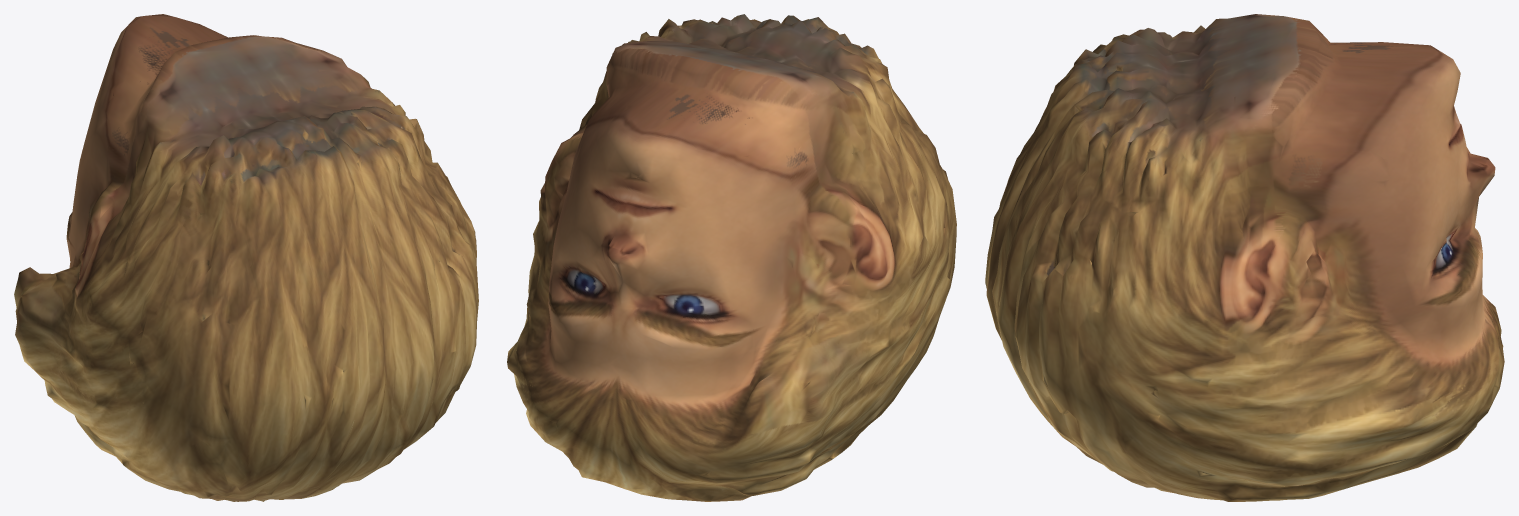
Rendered from field-fitted-head.glb.
3 views of the same model, side by side, from view 1: azimuth 30°, elevation 25°; view 2: azimuth 150°, elevation 25°; view 3: azimuth 270°, elevation 25° (orthographic). The views are drawn at different scales.
Parts seen in each view (by area): view 1: world; view 2: world; view 3: world.
Boxes of the visible parts, x1=… form: world: x1=14, y1=14, x2=478, y2=501; world: x1=507, y1=14, x2=956, y2=501; world: x1=985, y1=14, x2=1504, y2=501.
Bounding box in the file's own units: 15.15 × 16.82 × 17.96.
Materials: 1 (1 with a texture image).
